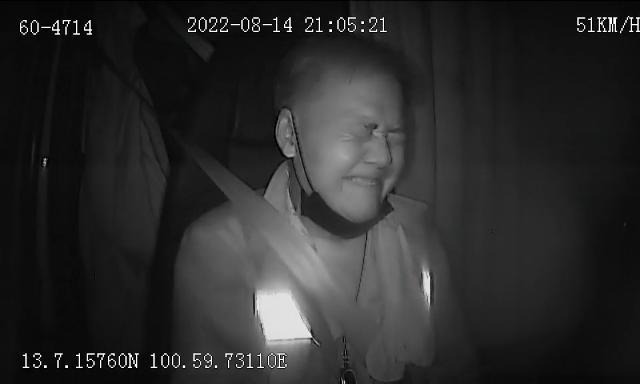Seatbelt: (202, 154, 378, 364)
